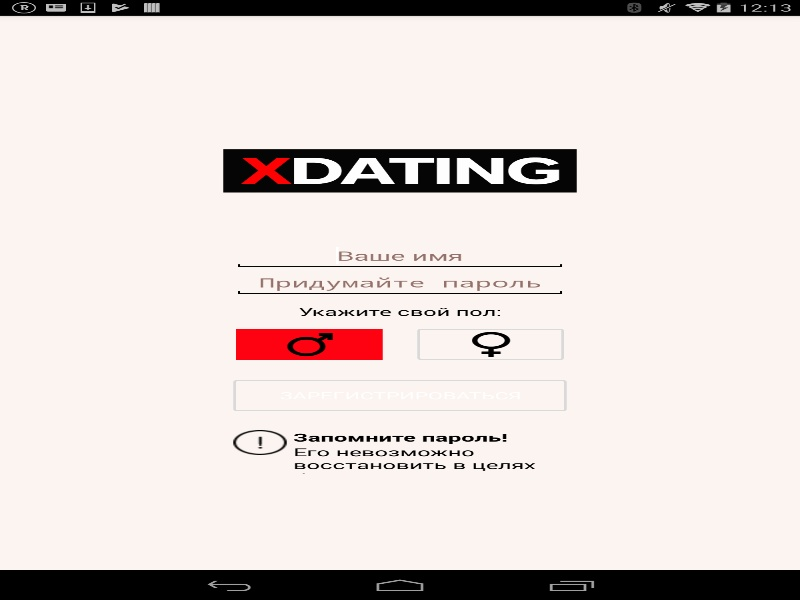Button: (233, 380, 566, 411), (417, 328, 564, 360), (236, 328, 382, 360)
Input: (233, 242, 566, 269), (233, 269, 566, 296)
